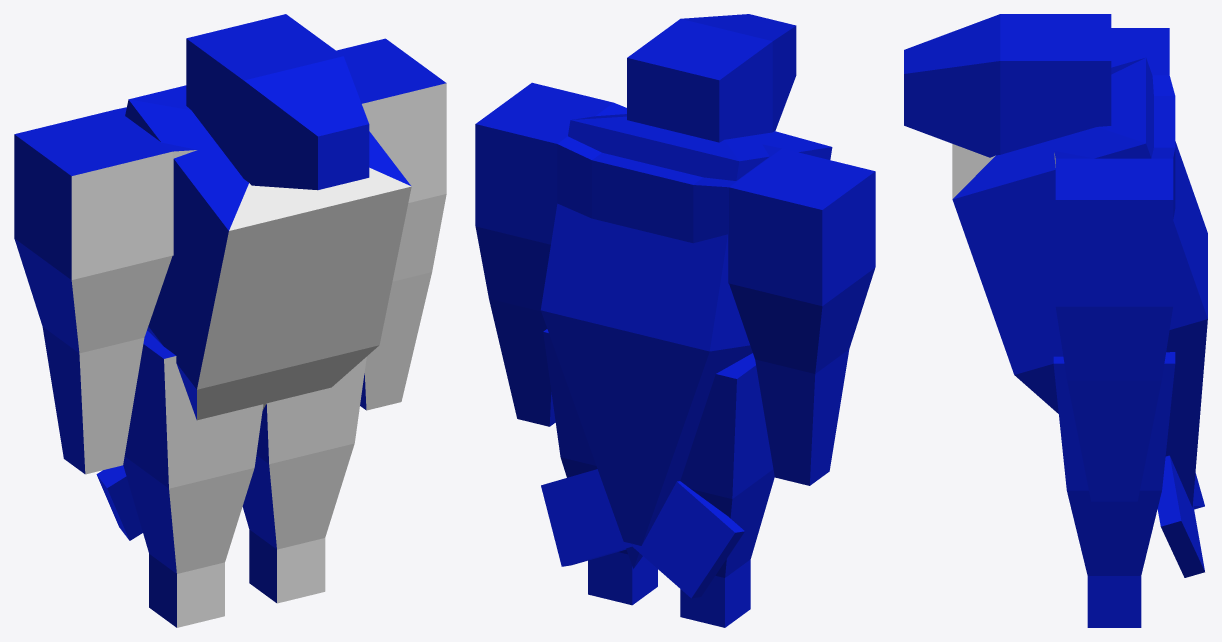
The model's file is Riba.fbx.
The picture shows the model from 3 angles, left to right: view 1: azimuth 30°, elevation 25°; view 2: azimuth 150°, elevation 25°; view 3: azimuth 270°, elevation 25°; orthographic projection. The views are drawn at different scales.
Visible parts, largest first — view 1: Cube.003, Cube.002, Cube, Cube.004, Cube.005; view 2: Cube.003, Cube.002, Cube, Cube.004, Cube.005; view 3: Cube.003, Cube.002, Cube, Cube.005.
Part boxes in pixels (bbox=[...]): Cube.003: bbox=[14, 38, 446, 474]; Cube.002: bbox=[96, 85, 411, 540]; Cube: bbox=[186, 14, 369, 190]; Cube.004: bbox=[123, 330, 263, 627]; Cube.005: bbox=[242, 357, 366, 603]; Cube.003: bbox=[475, 82, 875, 485]; Cube.002: bbox=[540, 114, 832, 598]; Cube: bbox=[627, 14, 796, 142]; Cube.004: bbox=[680, 353, 774, 627]; Cube.005: bbox=[543, 329, 657, 605]; Cube.003: bbox=[1054, 28, 1175, 501]; Cube.002: bbox=[952, 57, 1207, 577]; Cube: bbox=[904, 14, 1111, 157]; Cube.005: bbox=[1053, 352, 1175, 627].
Bounding box in the file's own units: 682 × 1004 × 499.
